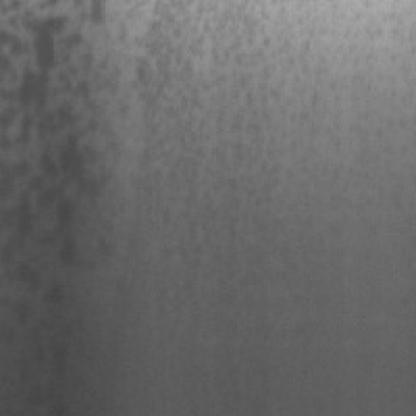pitted_surface: (129, 0, 399, 279), (0, 0, 114, 410)
